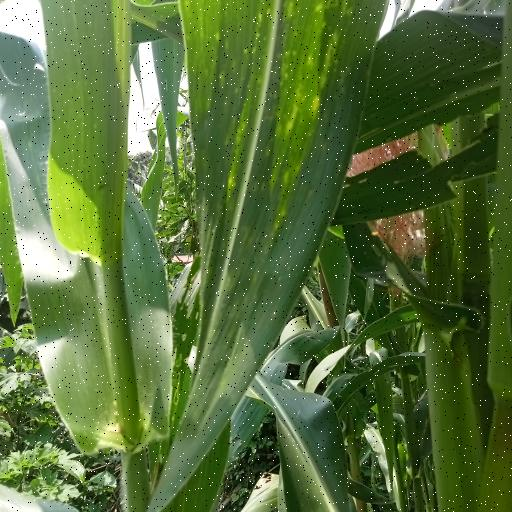Corn_Brown_Spots: (164, 0, 388, 488)
